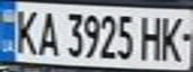2: (100, 10, 121, 60)
3: (60, 8, 84, 59)
5: (115, 11, 139, 61)
9: (78, 10, 103, 60)
A: (33, 7, 60, 57)
H: (136, 12, 166, 62)
K: (9, 4, 42, 55), (157, 12, 190, 62)
